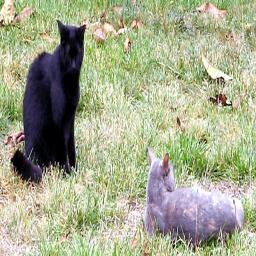catnose: (71, 63, 76, 71)
